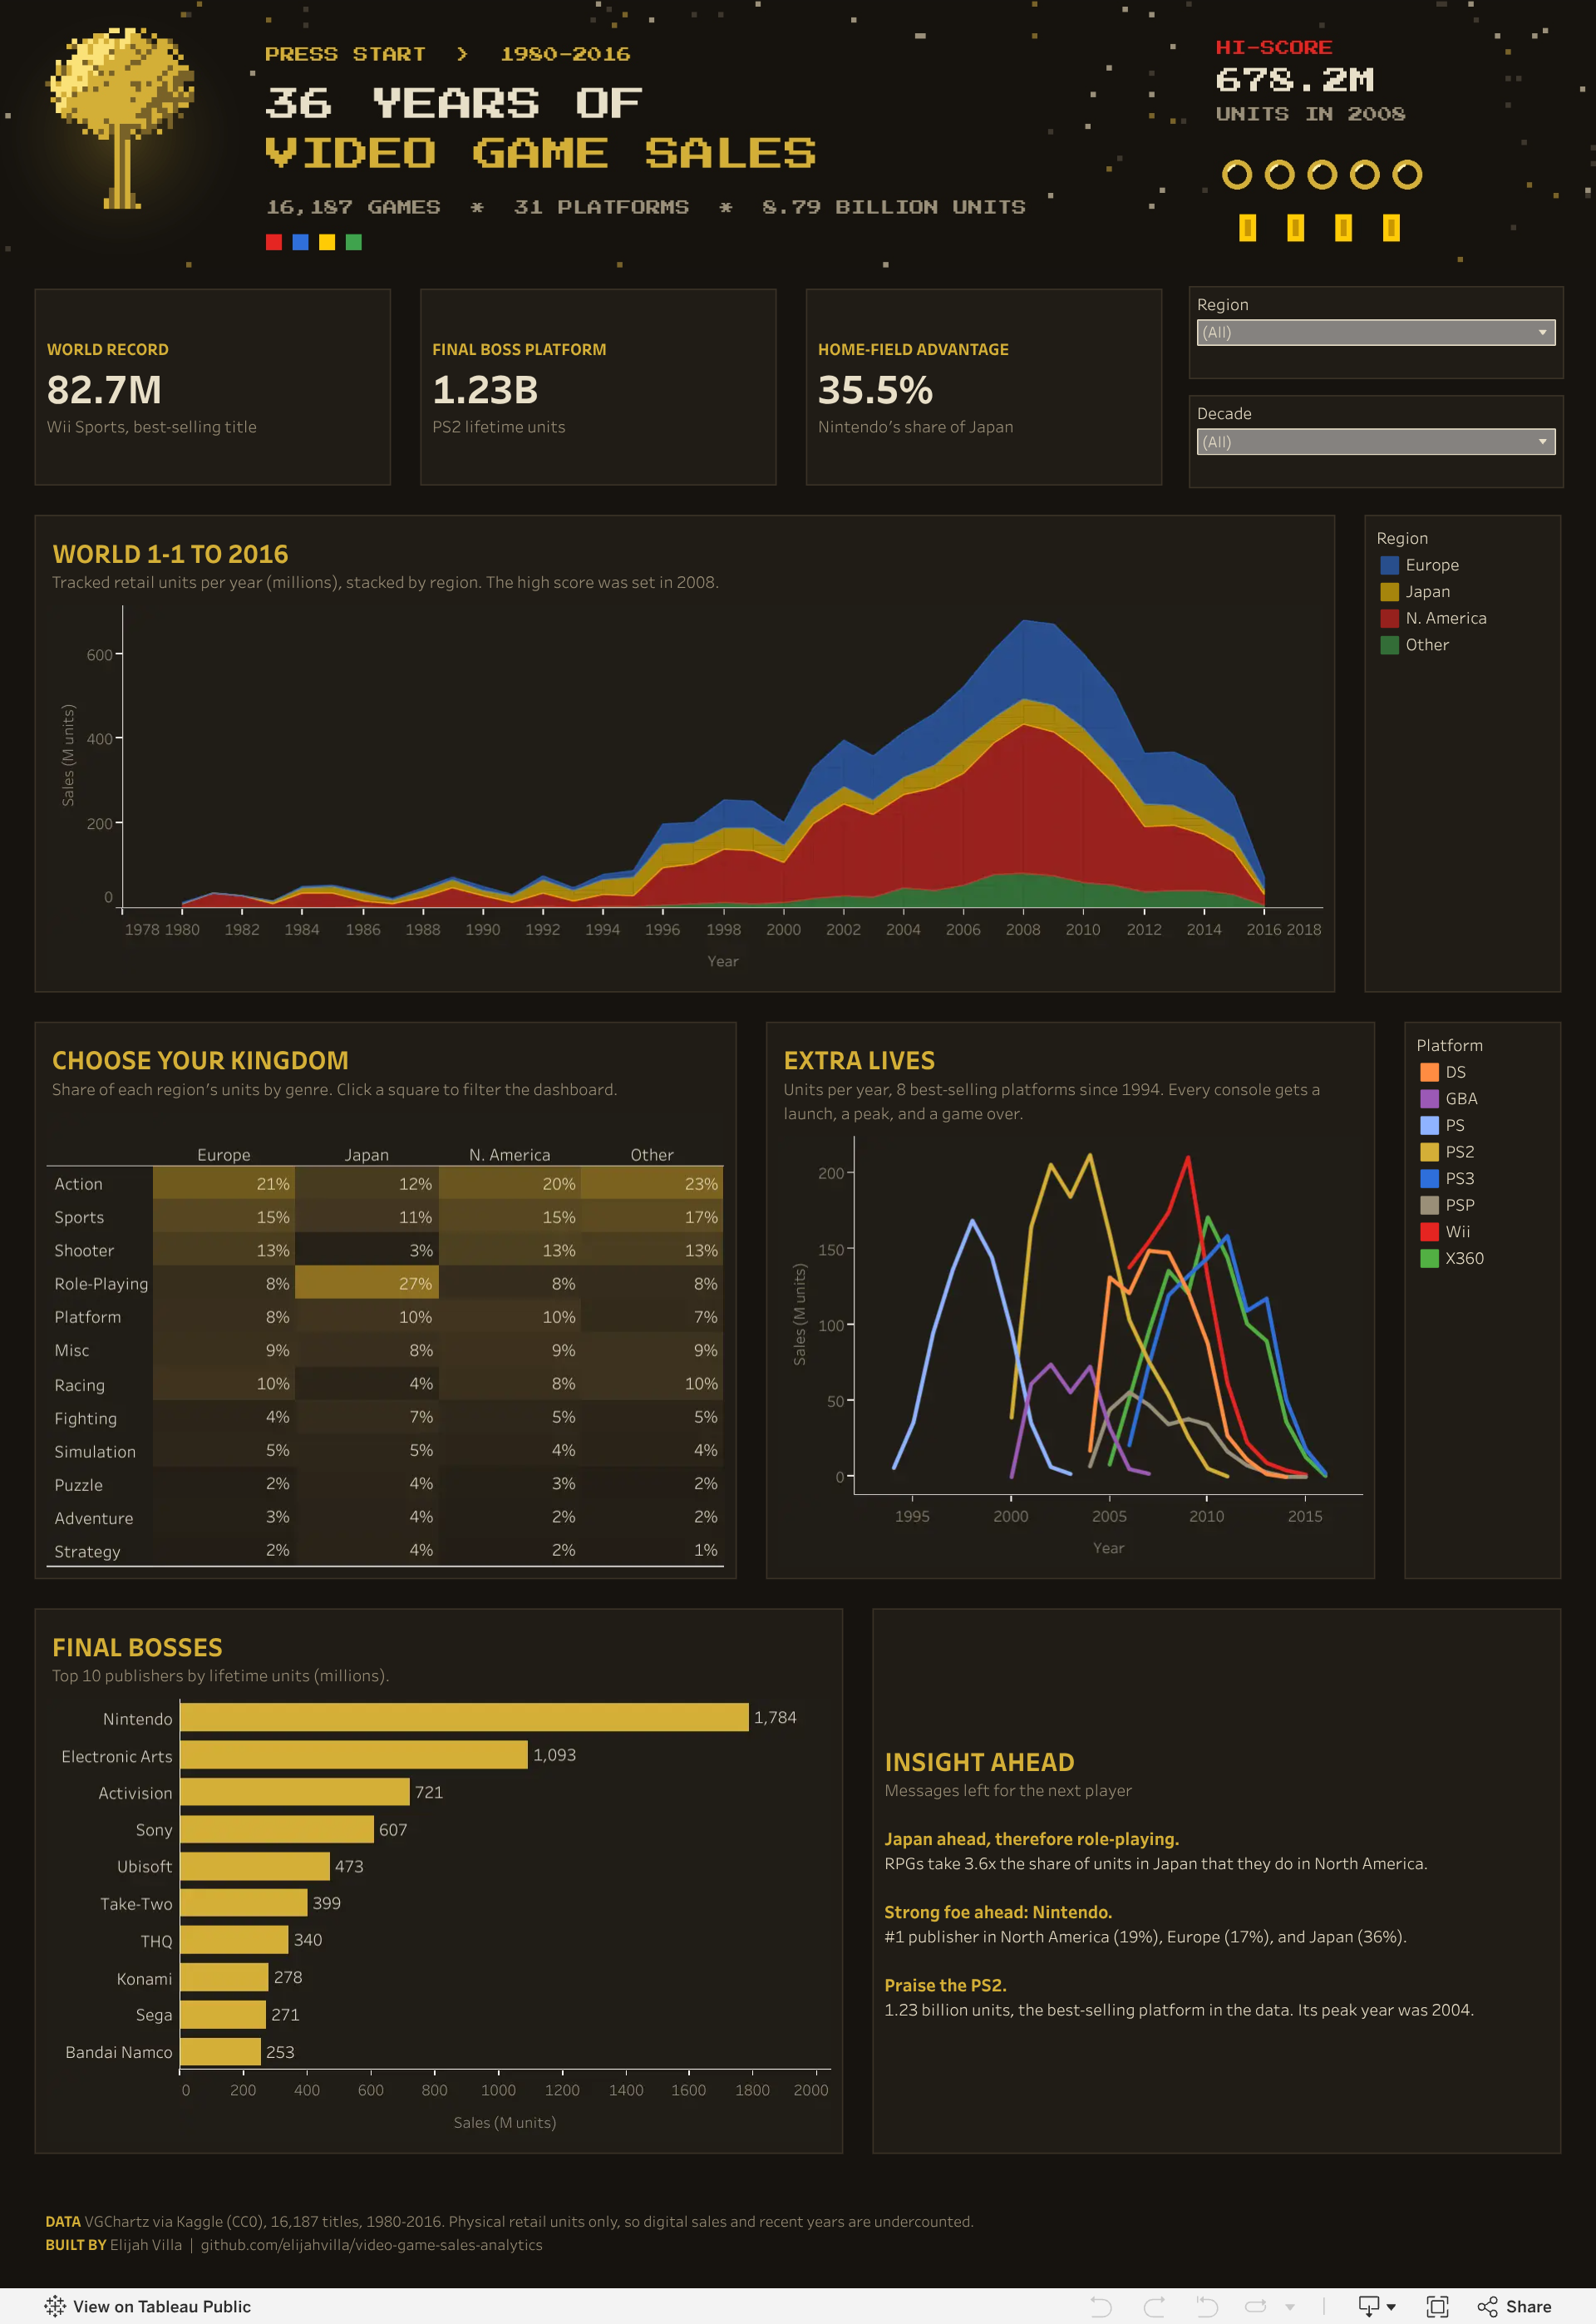

This screenshot's page, from the dashboard's own definition file:
{"tool":"tableau","page":{"name":"Video Game Sales 1980-2016","canvas":[1200,1720],"ordinal":0},"visuals":[{"type":"image","param":"C:/Users/ual-laptop/Documents/Claude Work/video-game-sales-analytics/tableau/ass","box":[0,0,1200,200]},{"type":"text","box":[20,210,280,160]},{"type":"text","box":[310,210,280,160]},{"type":"text","box":[600,210,280,160]},{"type":"filter","title":"Market Over Time","param":"[federated.vgsales0].[none:Region:nk]","box":[890,210,290,78]},{"type":"filter","title":"Market Over Time","param":"[federated.vgsales0].[none:Decade:nk]","box":[890,292,290,78]},{"type":"worksheet","title":"Market Over Time","mark":"Area","rows":["Sales (M units)"],"cols":["Year"],"box":[20,380,990,370]},{"type":"legend","title":"Market Over Time","param":"[federated.vgsales0].[none:Region:nk]","box":[1020,380,160,370]},{"type":"worksheet","title":"Regional Mix","mark":"Square","rows":["Genre"],"cols":["Region"],"box":[20,760,540,430]},{"type":"worksheet","title":"Platform Lifecycles","mark":"Line","rows":["Sales (M units)"],"cols":["Year"],"box":[570,760,470,430]},{"type":"legend","title":"Platform Lifecycles","param":"[federated.vgsales0].[none:Platform:nk]","box":[1050,760,130,430]},{"type":"worksheet","title":"Top Publishers","mark":"Bar","rows":["Publisher"],"cols":["Sales (M units)"],"box":[20,1200,620,420]},{"type":"text","box":[650,1200,530,420]},{"type":"text","box":[20,1630,1160,85]}]}

Visuals, with their boxes on the page's 1200x1720 design canvas (x1, y1, x2, y2). These are canvas units, not pixel positions in the 1596x2324 screenshot, which may show the page scaled, cropped or inside an application window:
image: Rect(0, 0, 1200, 200)
text: Rect(20, 210, 300, 370)
text: Rect(310, 210, 590, 370)
text: Rect(600, 210, 880, 370)
"Market Over Time" filter: Rect(890, 210, 1180, 288)
"Market Over Time" filter: Rect(890, 292, 1180, 370)
"Market Over Time" worksheet (Area marks): Rect(20, 380, 1010, 750)
"Market Over Time" legend: Rect(1020, 380, 1180, 750)
"Regional Mix" worksheet (Square marks): Rect(20, 760, 560, 1190)
"Platform Lifecycles" worksheet (Line marks): Rect(570, 760, 1040, 1190)
"Platform Lifecycles" legend: Rect(1050, 760, 1180, 1190)
"Top Publishers" worksheet (Bar marks): Rect(20, 1200, 640, 1620)
text: Rect(650, 1200, 1180, 1620)
text: Rect(20, 1630, 1180, 1715)
